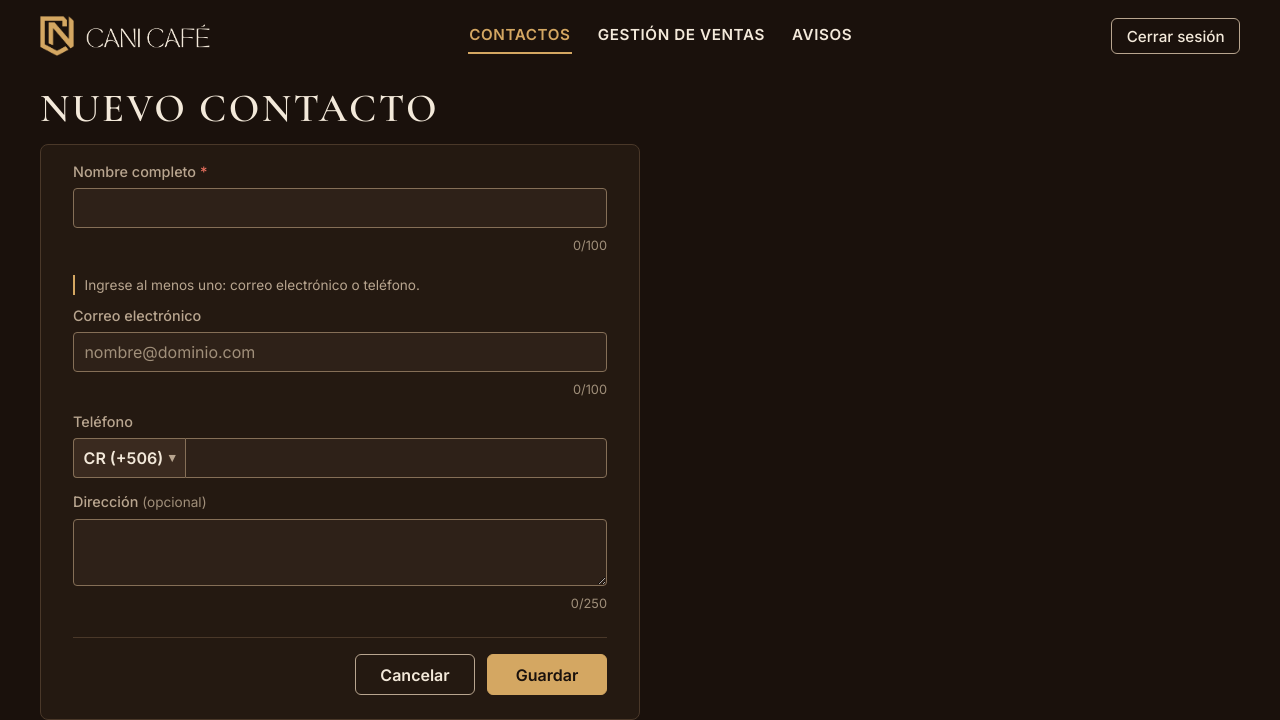
Test: HU-202 Teléfonos de Costa Rica y de otros países › la lista muestra el nombre de cada país con su código, agrupada por letras
The image size is (1280, 720).
Click the button with aria-label "País del teléfono" at (129, 458), box [73,438,185,478]
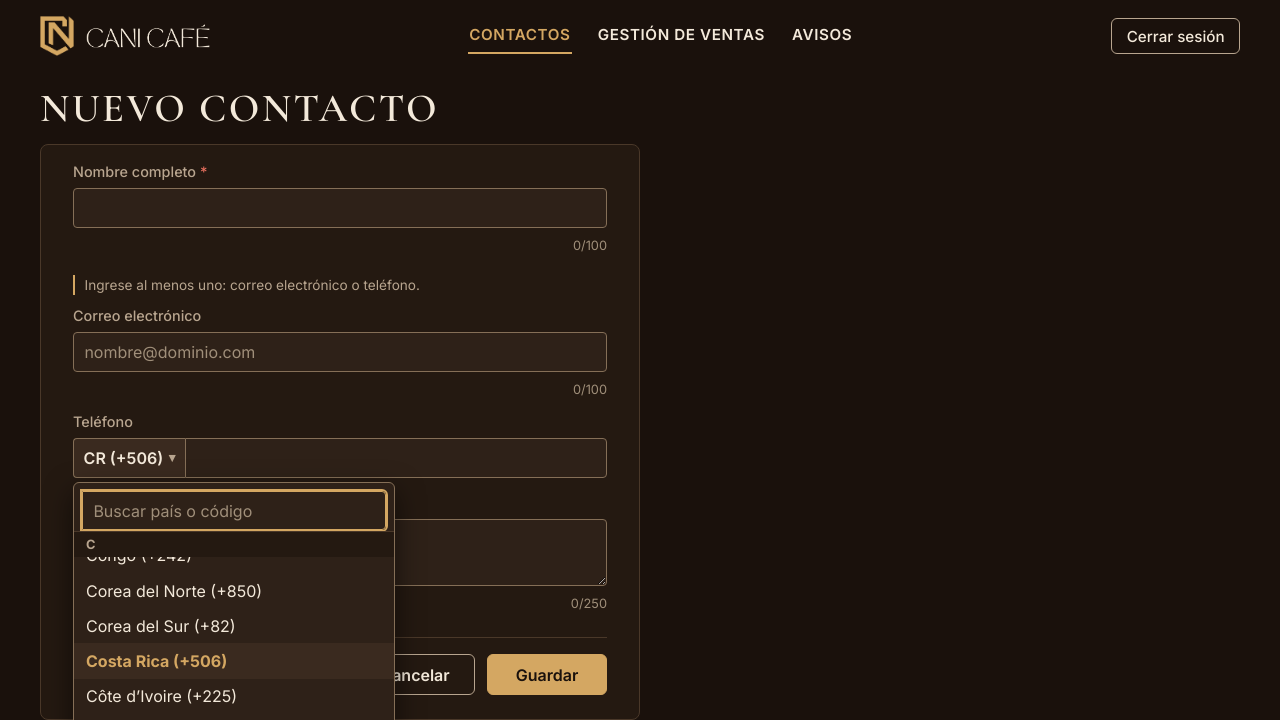
Check: the option "Costa Rica (+506)" is shown, box [74,643,394,679]
